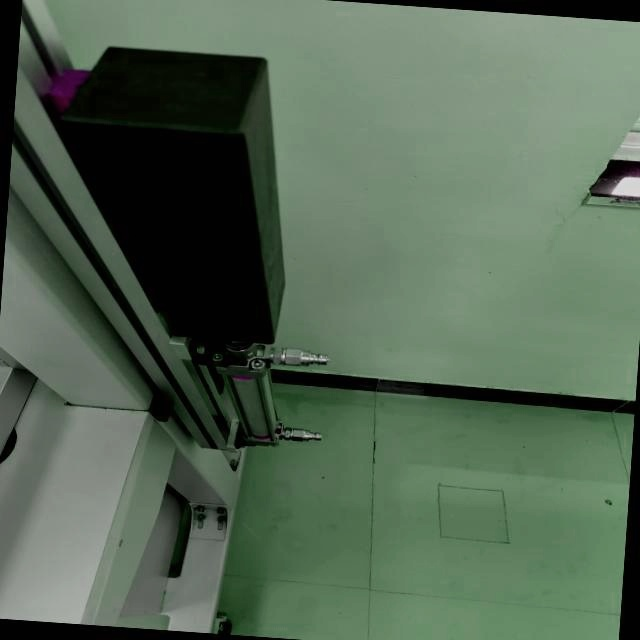load: (12, 37, 358, 458)
